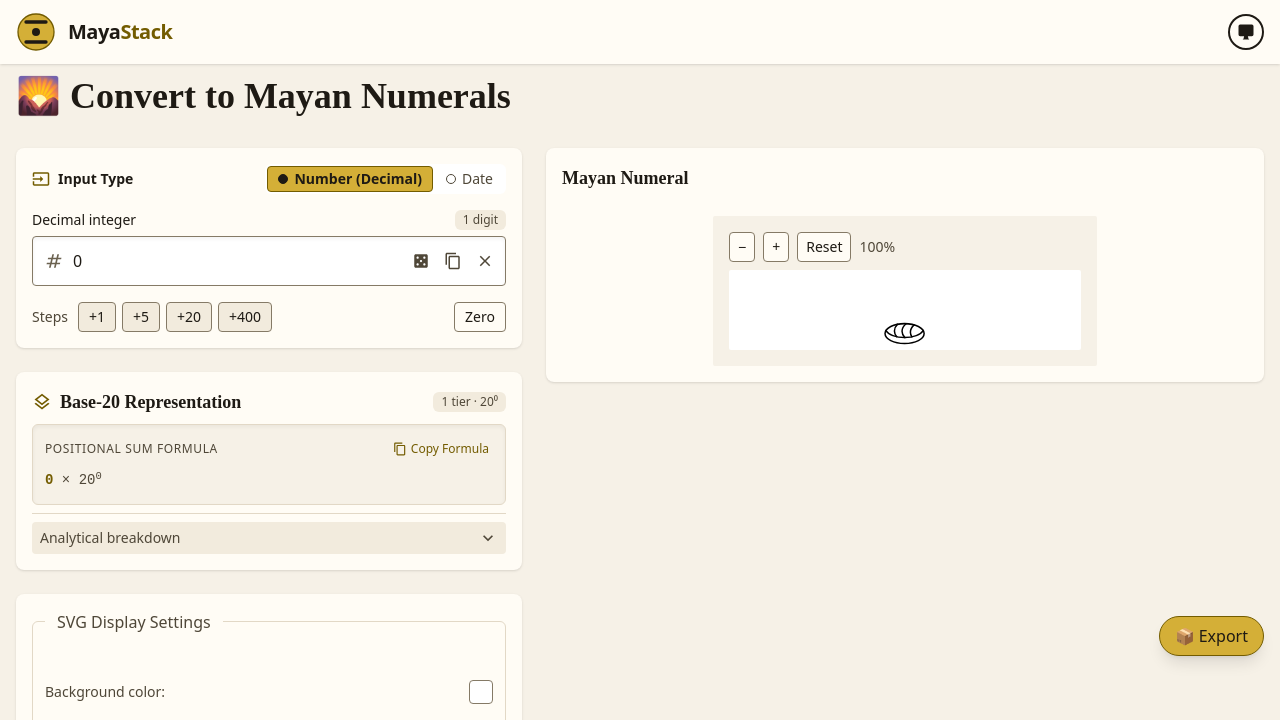
it: DisplaySettingsProvider without usable storage › renders the whole app, which still converts numbers, when the storage is blocked
The width and height of the screenshot is (1280, 720).
Expected: the heading "🌄 Convert to Mayan Numerals" is shown, top-left (16, 76), bottom-right (511, 116)
Replace the text in the field labelled "Decimal integer" with "123": (269, 261) top-left (32, 236), bottom-right (506, 286)
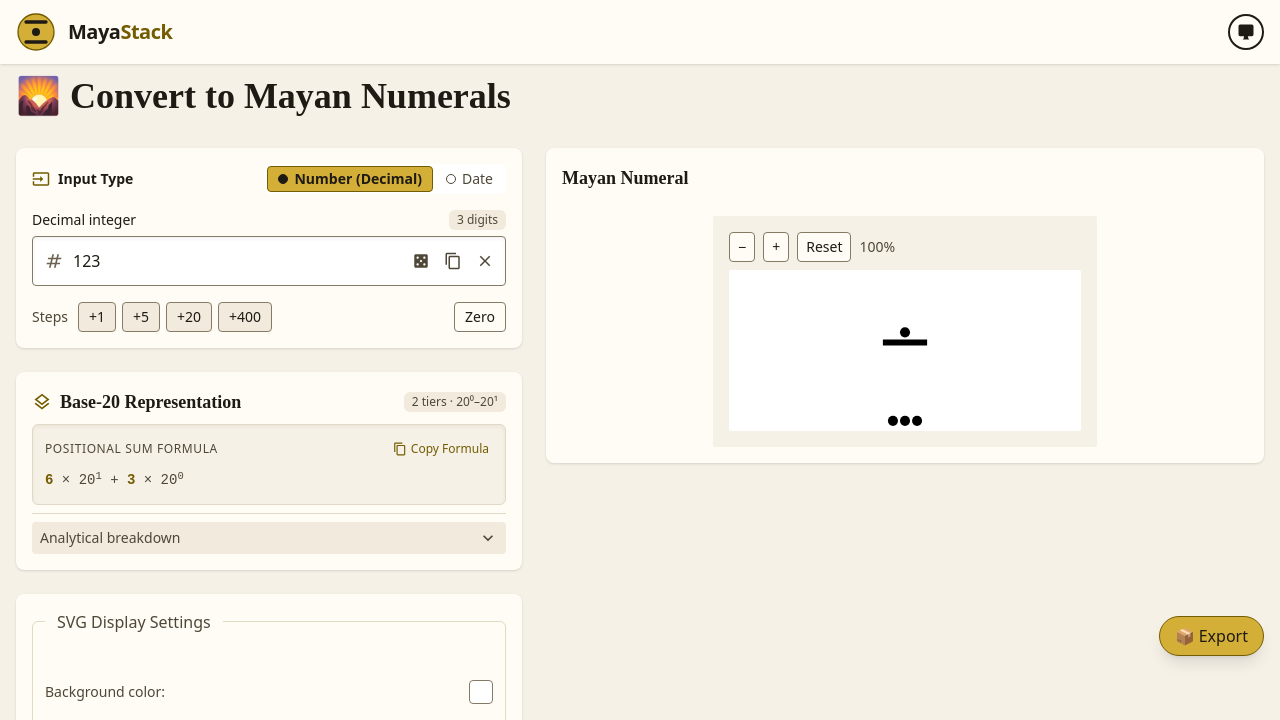
Expected: the picture named "Mayan numeral for 123: 2 stacked base-20 digits, highest place value at the top" is shown, top-left (729, 270), bottom-right (1081, 431)
